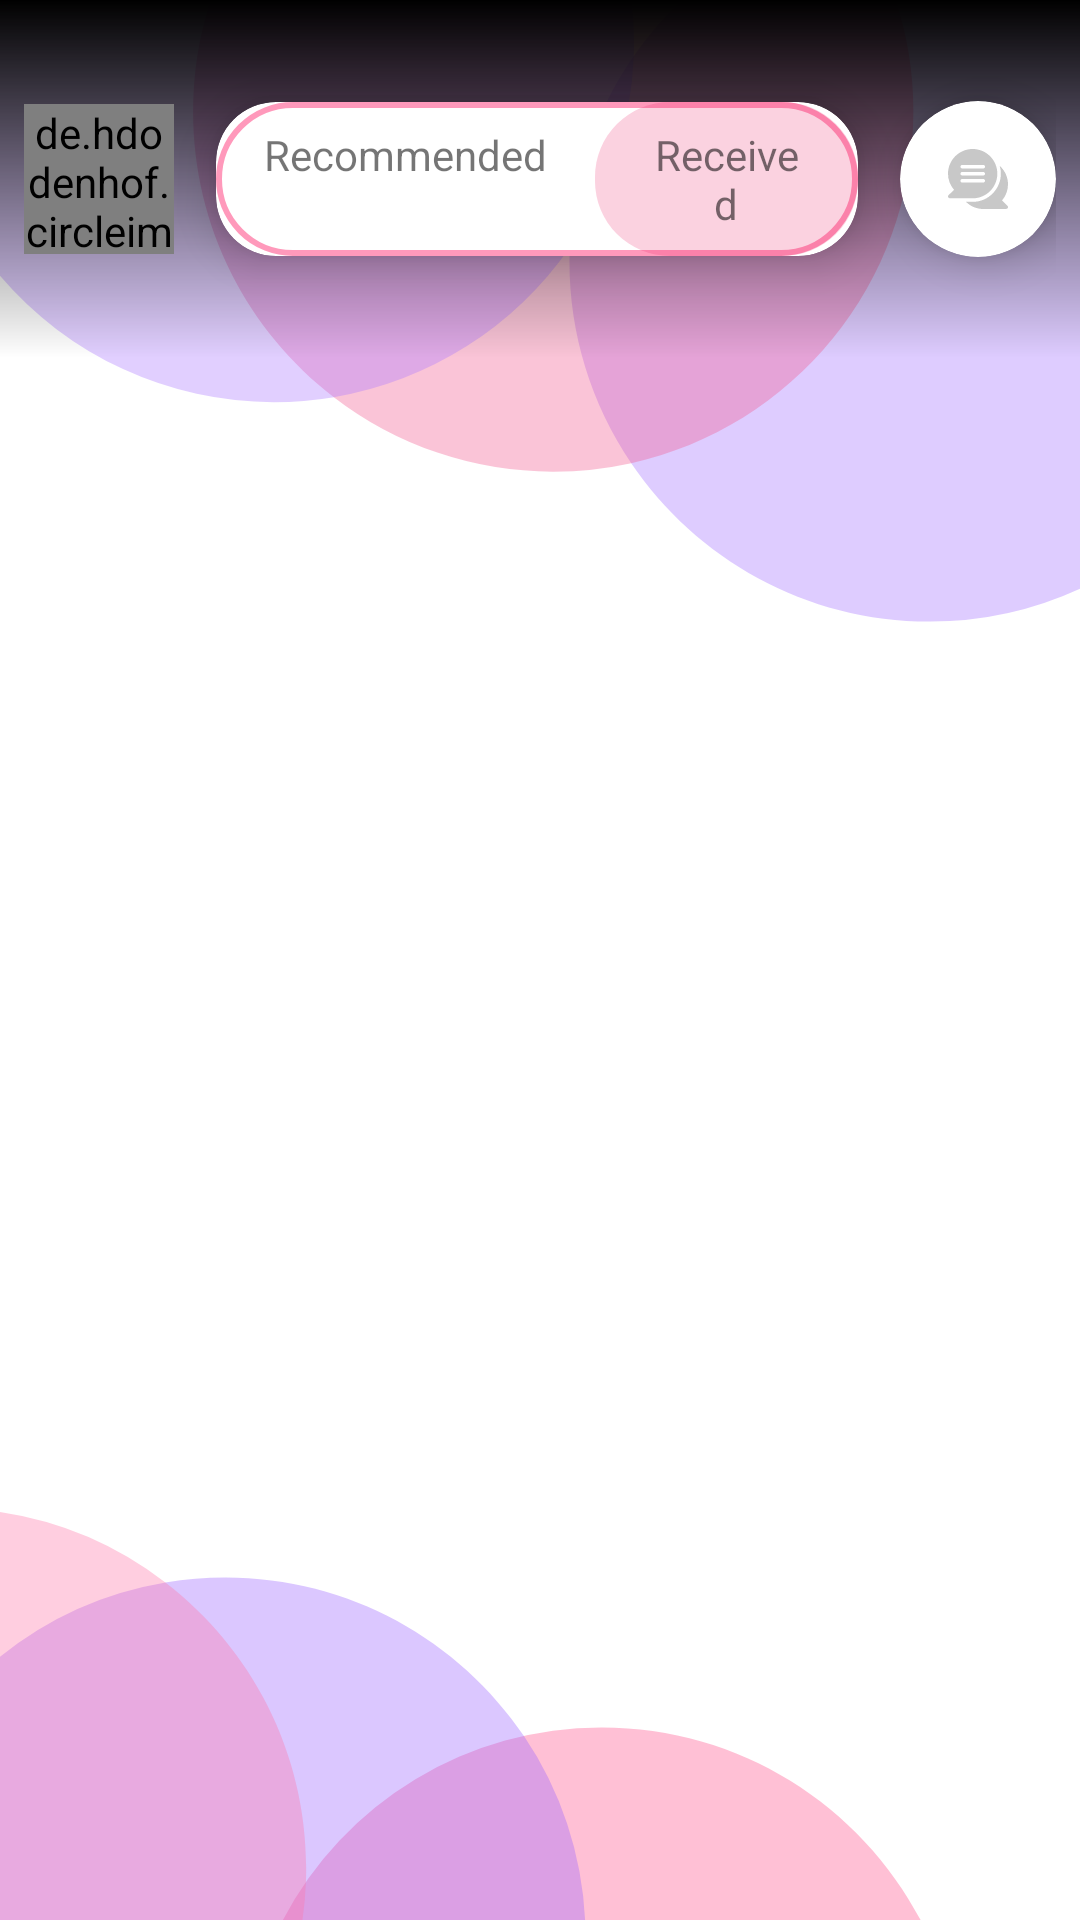

Named icons in this screenshot (1080px x 1920px) and their bounding boxes, bbox(x1, y1, x2, y2):
chat: bbox(948, 149, 1008, 209)
